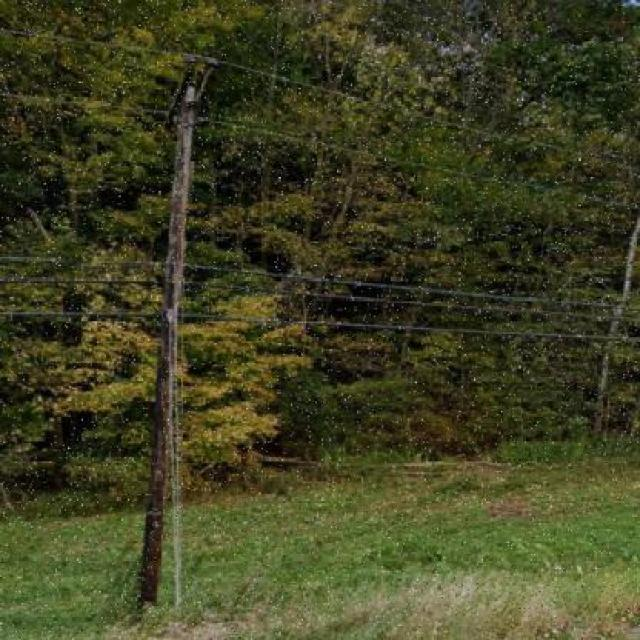pole: (127, 62, 235, 610)
